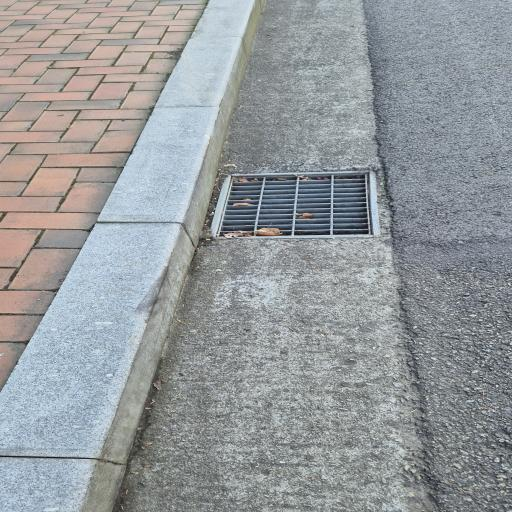drain: (212, 171, 377, 238)
